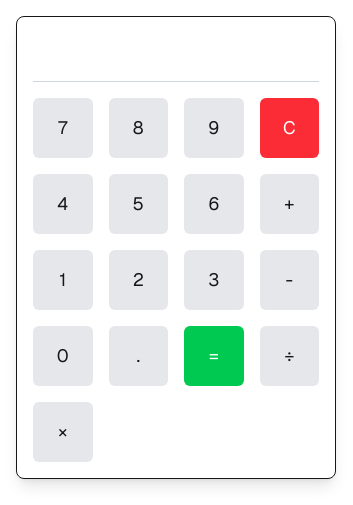
Test: Home Page › can click number buttons and update input
The width and height of the screenshot is (353, 505).
Step 1. Click the button "7" → (63, 128), box [33, 98, 92, 158]
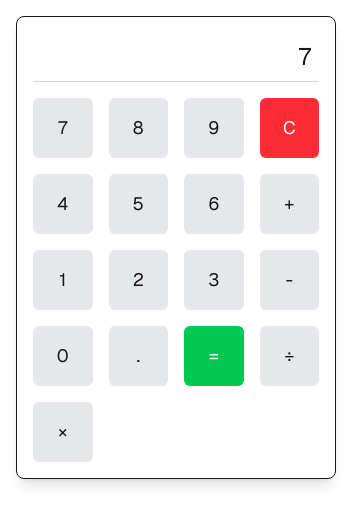
Step 2. Click the button "8" → (138, 128), box [108, 98, 168, 158]
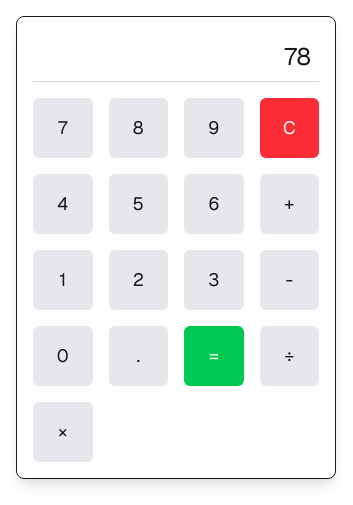
Step 3. Click the button "9" → (214, 128), box [184, 98, 244, 158]
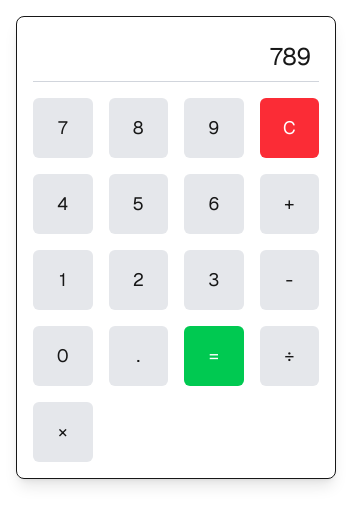
expect the field holds "789": met, box [33, 33, 319, 82]
